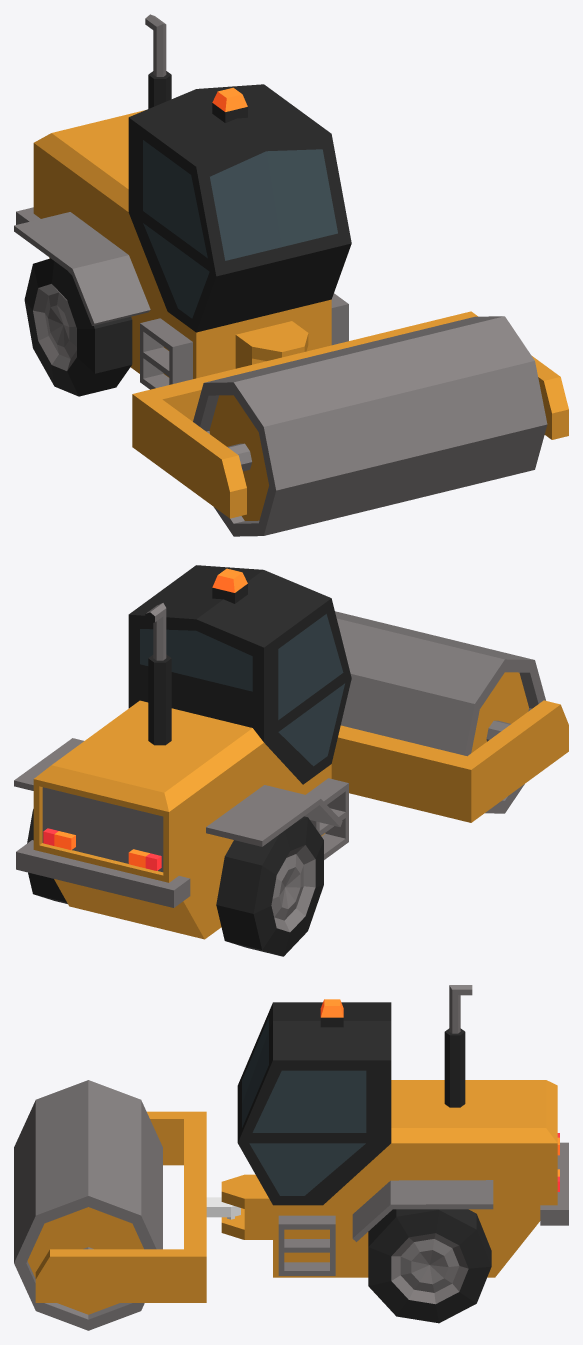
File: vehicles_road-roller.fbx
3 views of the same model, one above another, from view 1: azimuth 30°, elevation 25°; view 2: azimuth 150°, elevation 25°; view 3: azimuth 270°, elevation 25° (orthographic). The views are drawn at different scales.
Visible parts, largest first — view 1: road_roller_base, road_roller_cylinder, road_roller_wheel_frame_F, road_roller_wheel_BR; view 2: road_roller_base, road_roller_cylinder, road_roller_wheel_frame_F, road_roller_wheel_BR, road_roller_wheel_BL; view 3: road_roller_base, road_roller_cylinder, road_roller_wheel_frame_F, road_roller_wheel_BL.
Part boxes in pixels (bbox=[...]): road_roller_base: bbox=[14, 14, 351, 389]; road_roller_cylinder: bbox=[193, 316, 547, 536]; road_roller_wheel_frame_F: bbox=[132, 311, 568, 518]; road_roller_wheel_BR: bbox=[24, 258, 132, 396]; road_roller_base: bbox=[14, 565, 351, 939]; road_roller_cylinder: bbox=[335, 611, 545, 813]; road_roller_wheel_frame_F: bbox=[331, 700, 568, 822]; road_roller_wheel_BR: bbox=[216, 816, 323, 956]; road_roller_wheel_BL: bbox=[27, 809, 67, 903]; road_roller_base: bbox=[221, 985, 568, 1277]; road_roller_cylinder: bbox=[14, 1080, 162, 1330]; road_roller_wheel_frame_F: bbox=[35, 1111, 240, 1302]; road_roller_wheel_BL: bbox=[368, 1209, 491, 1323].
Size of the model in its own units: 123 by 115 by 200.
